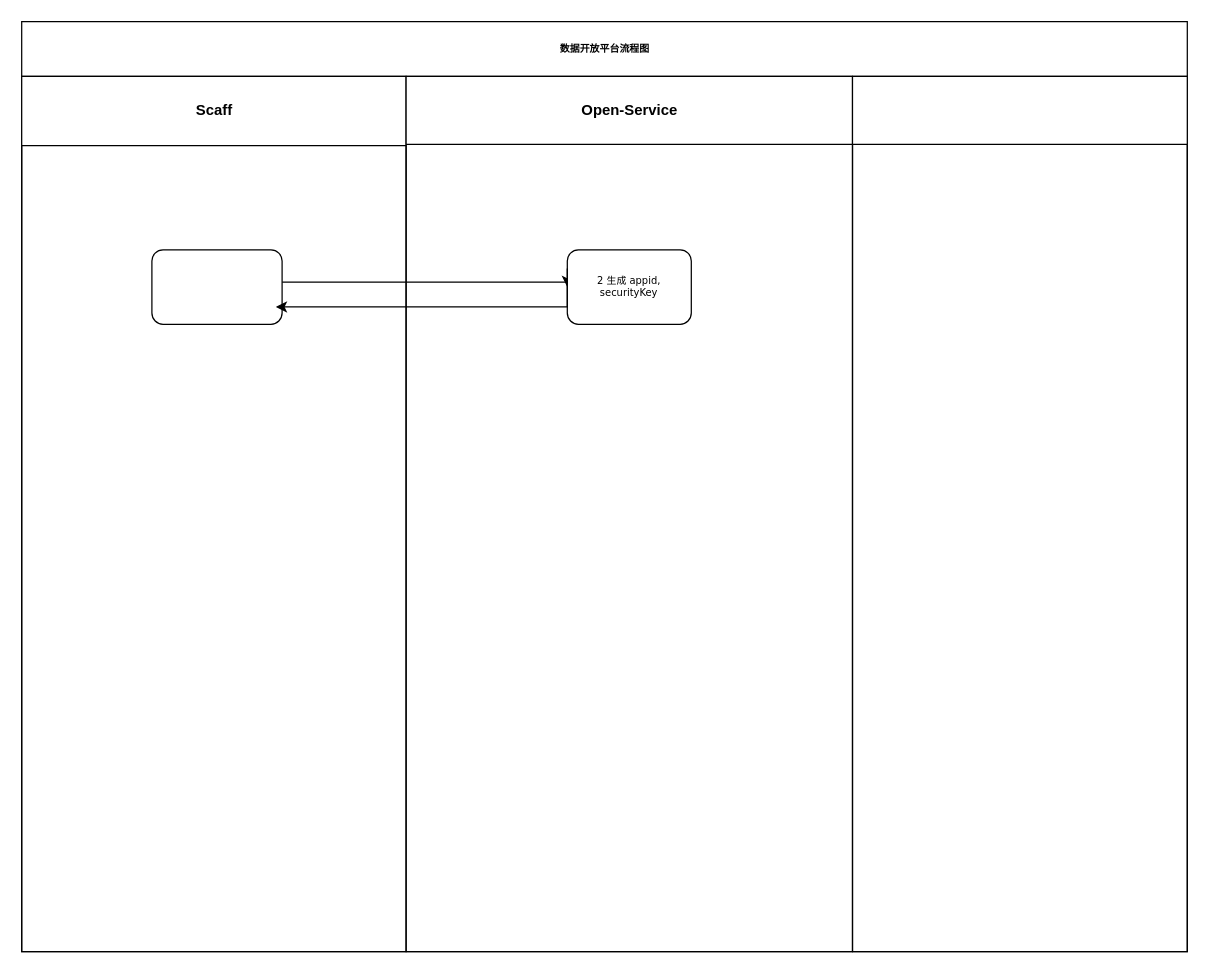
The diagram is 1209 pixels wide and 973 high, and some of its shapes have lost their labels. The centre of each missing label's shape, as x and y in pixels:
1 创建应用: the point at 216,286
Data-Access(数据访问平台): the point at 1019,513
